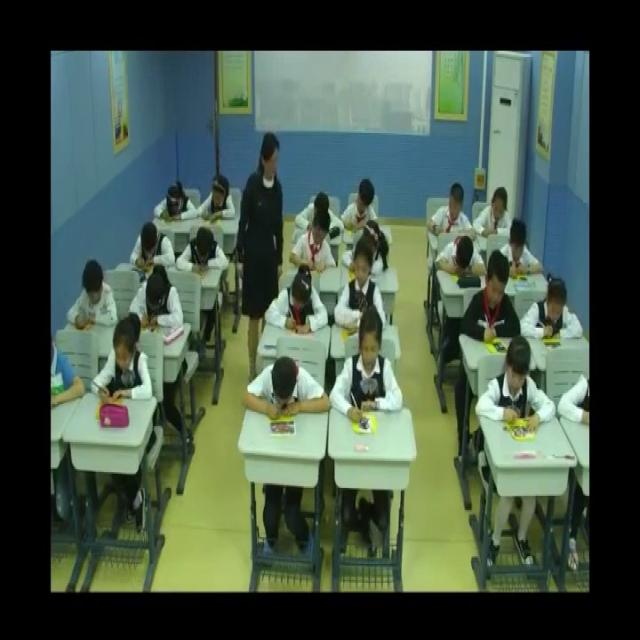focused: (326, 311, 406, 424), (477, 329, 556, 431), (91, 310, 156, 409), (462, 244, 520, 342), (244, 356, 332, 420), (334, 237, 389, 336), (524, 273, 586, 346), (261, 272, 331, 336), (65, 257, 120, 332), (172, 222, 232, 278), (139, 262, 186, 333), (290, 213, 336, 278), (435, 230, 490, 282), (341, 175, 383, 236), (474, 182, 517, 240), (344, 220, 387, 277), (132, 220, 178, 273), (428, 183, 471, 236), (503, 222, 542, 280), (150, 181, 196, 225), (199, 174, 239, 223)
